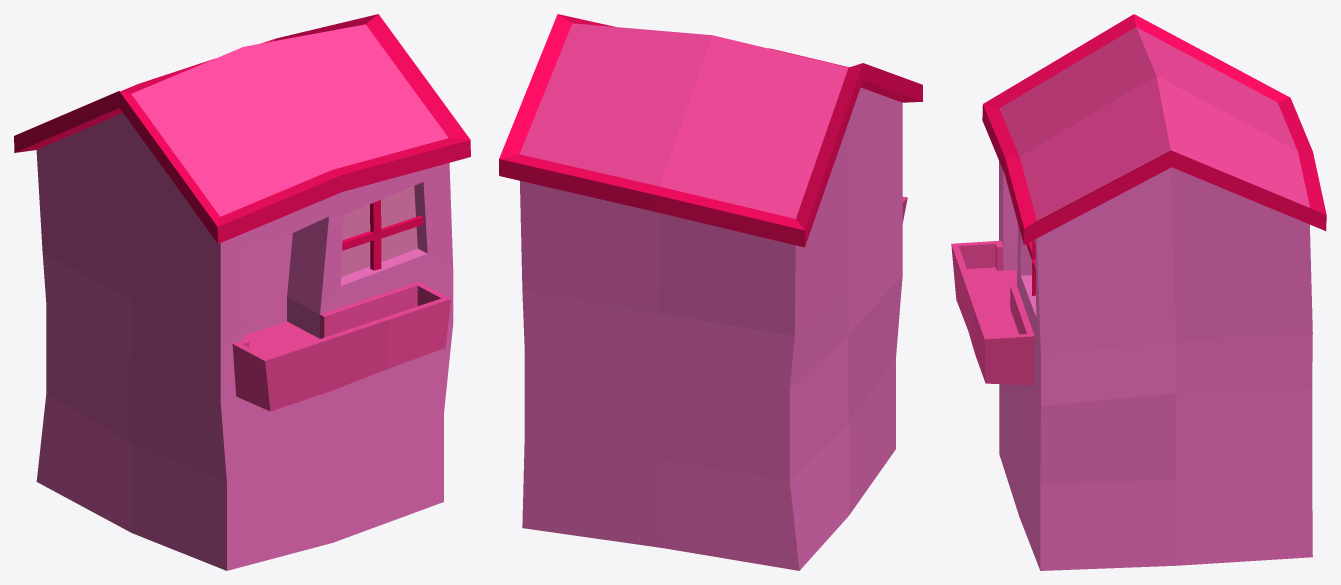
File: edificio6.fbx
3 renders of one model, left to right at view 1: azimuth 30°, elevation 25°; view 2: azimuth 150°, elevation 25°; view 3: azimuth 270°, elevation 25°, orthographic. The views are drawn at different scales.
Visible parts, largest first — view 1: edificio6; view 2: edificio6; view 3: edificio6.
Part boxes in pixels (box(x1,y1,x2,y2)): edificio6: box(14, 14, 470, 570); edificio6: box(499, 14, 922, 570); edificio6: box(951, 14, 1326, 570).
Bounding box in the file's own units: 3747 × 5039 × 3965.
